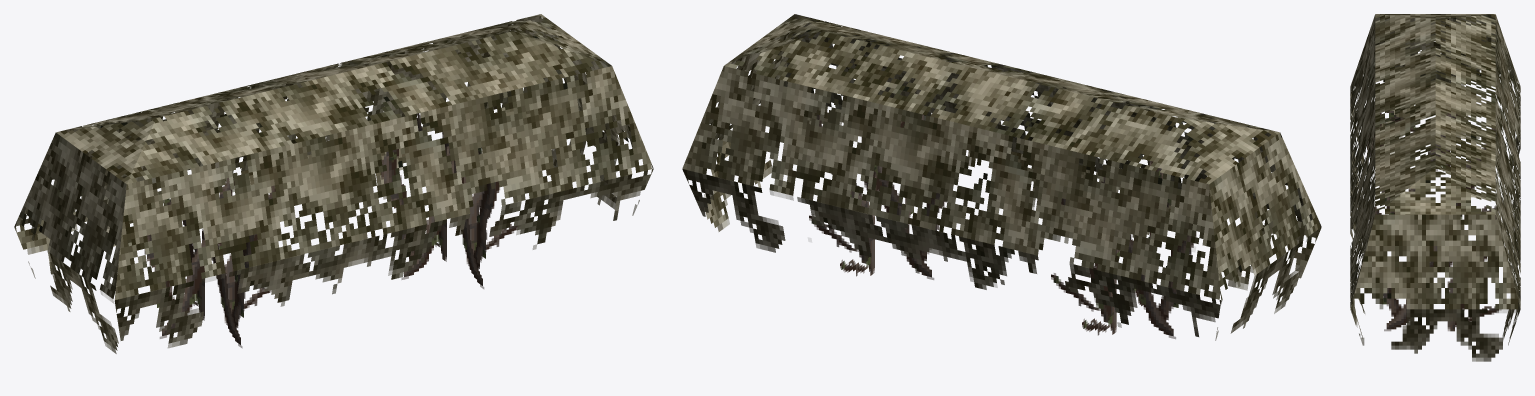
The model's file is bush_long_single_roots_dead..glb.
3 renders of one model, left to right at view 1: azimuth 30°, elevation 25°; view 2: azimuth 150°, elevation 25°; view 3: azimuth 270°, elevation 25°, orthographic. The views are drawn at different scales.
Visible parts, largest first — view 1: bush_long_single_roots_dead.; view 2: bush_long_single_roots_dead.; view 3: bush_long_single_roots_dead..
Boxes of the visible parts, <box> form: bush_long_single_roots_dead.: <box>14,14,653,353</box>; bush_long_single_roots_dead.: <box>682,14,1321,340</box>; bush_long_single_roots_dead.: <box>1350,14,1520,361</box>.
Bounding box in the file's own units: 2.23 × 0.8765 × 0.7191.
Materials: 2 (2 with a texture image).
